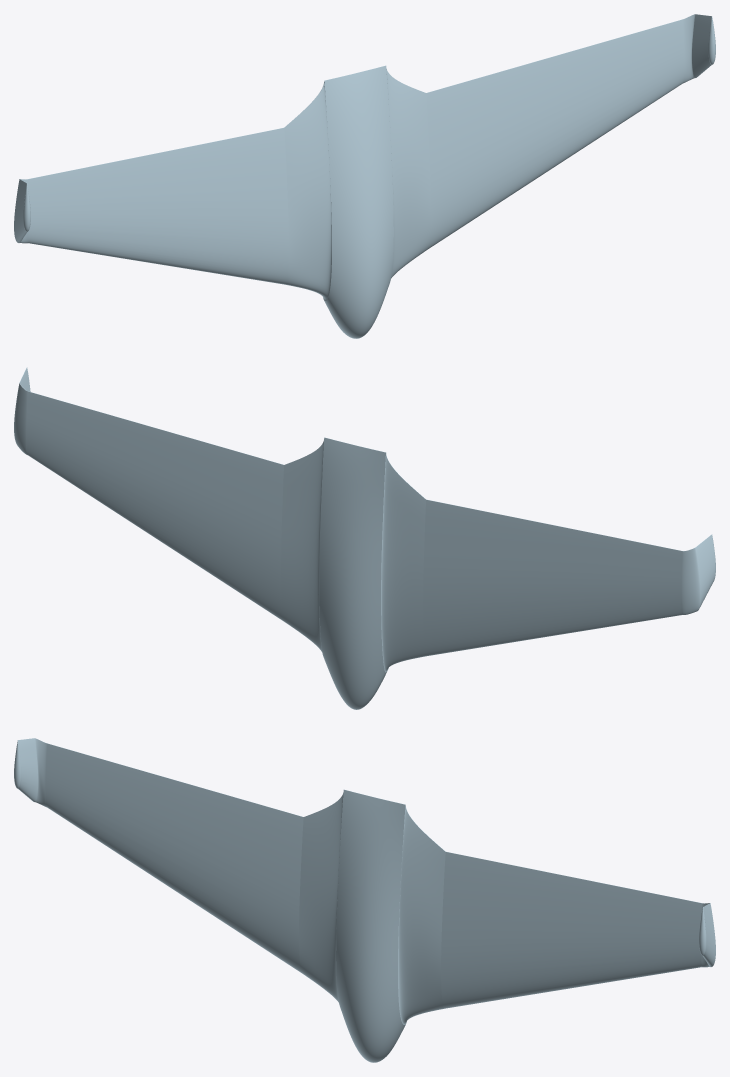
The model's file is wingbody.gltf.
3 views of the same model, one above another, from view 1: azimuth 30°, elevation 25°; view 2: azimuth 150°, elevation 25°; view 3: azimuth 330°, elevation 25° (orthographic).
Visible parts, largest first — view 1: wing; view 2: wing; view 3: wing.
Boxes of the visible parts, <box> form: wing: <box>14,14,715,338</box>; wing: <box>14,367,715,709</box>; wing: <box>14,738,715,1062</box>.
Bounding box in the file's own units: 2.24 × 0.8181 × 0.1403.
